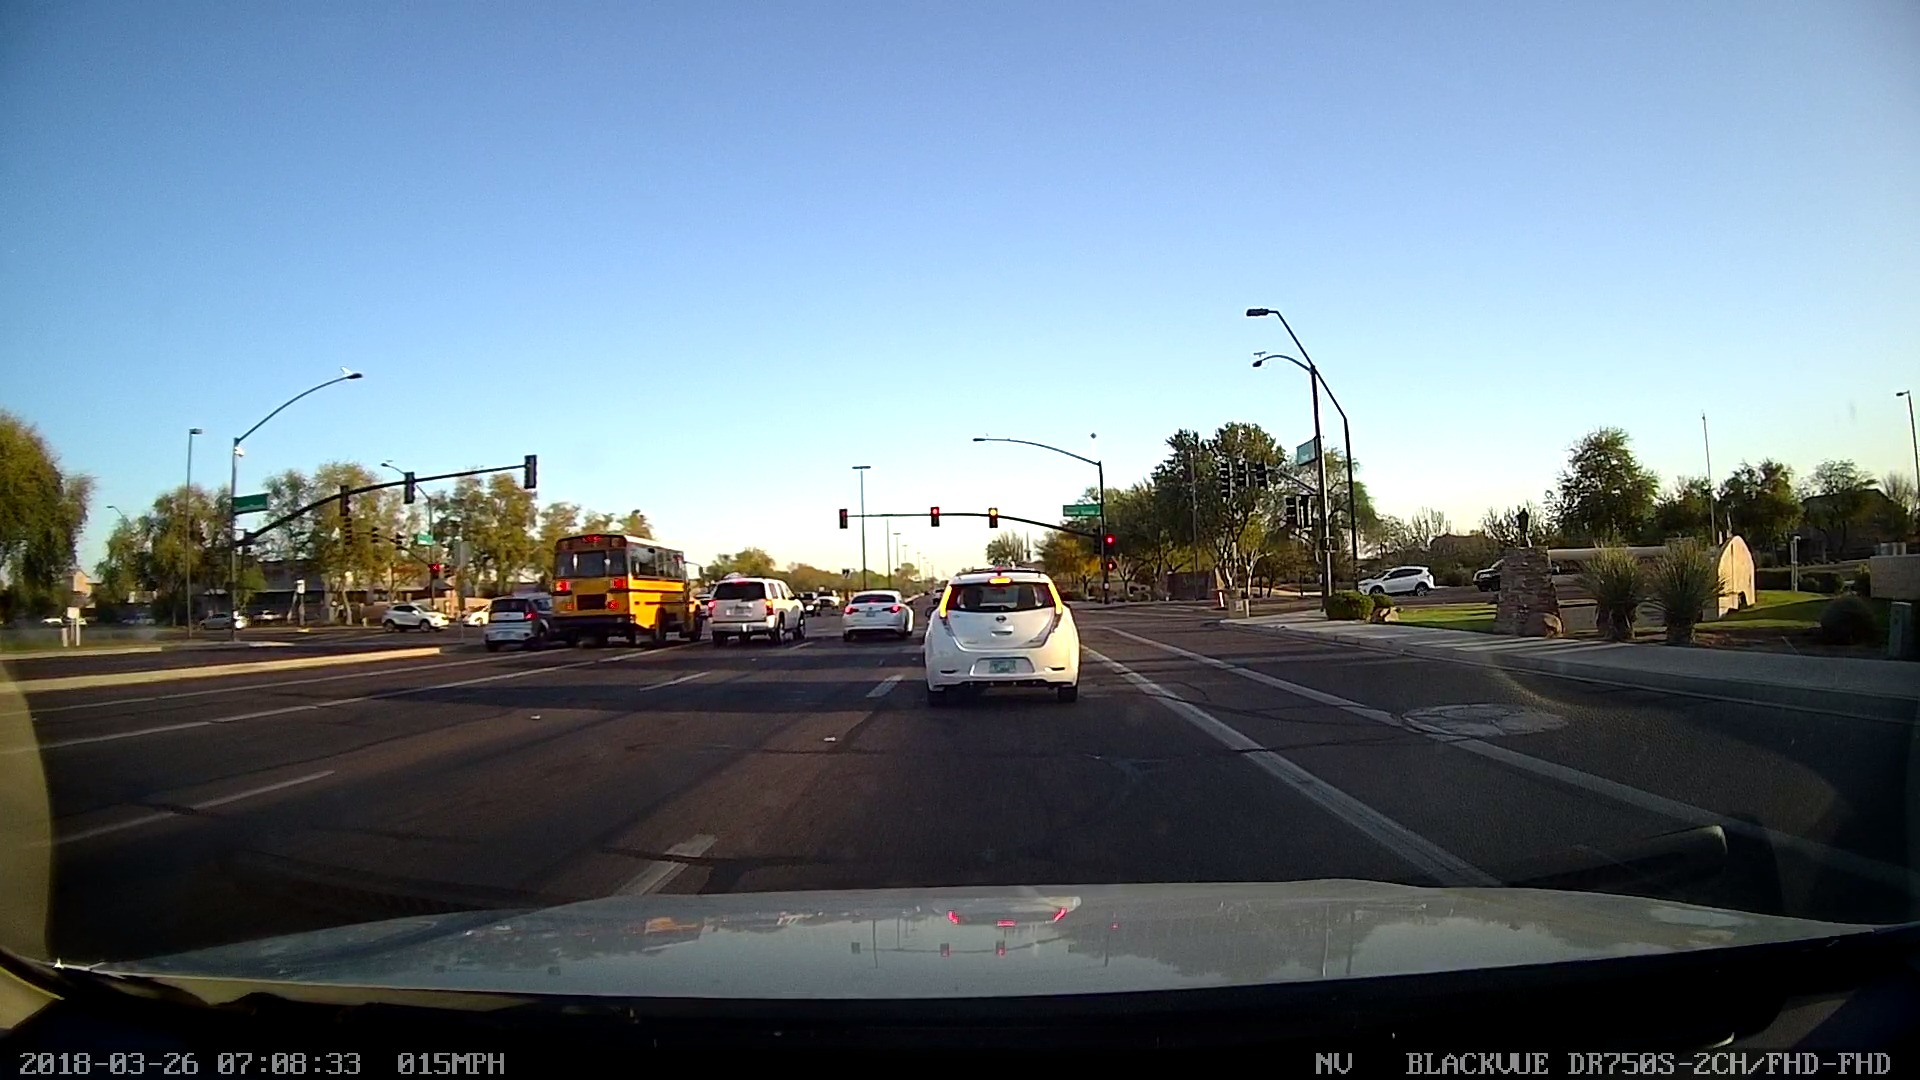vehicle: (913, 559, 1088, 709), (541, 516, 713, 667), (692, 568, 812, 651), (835, 572, 920, 644), (472, 582, 554, 655), (1349, 556, 1441, 603), (381, 597, 454, 633)
